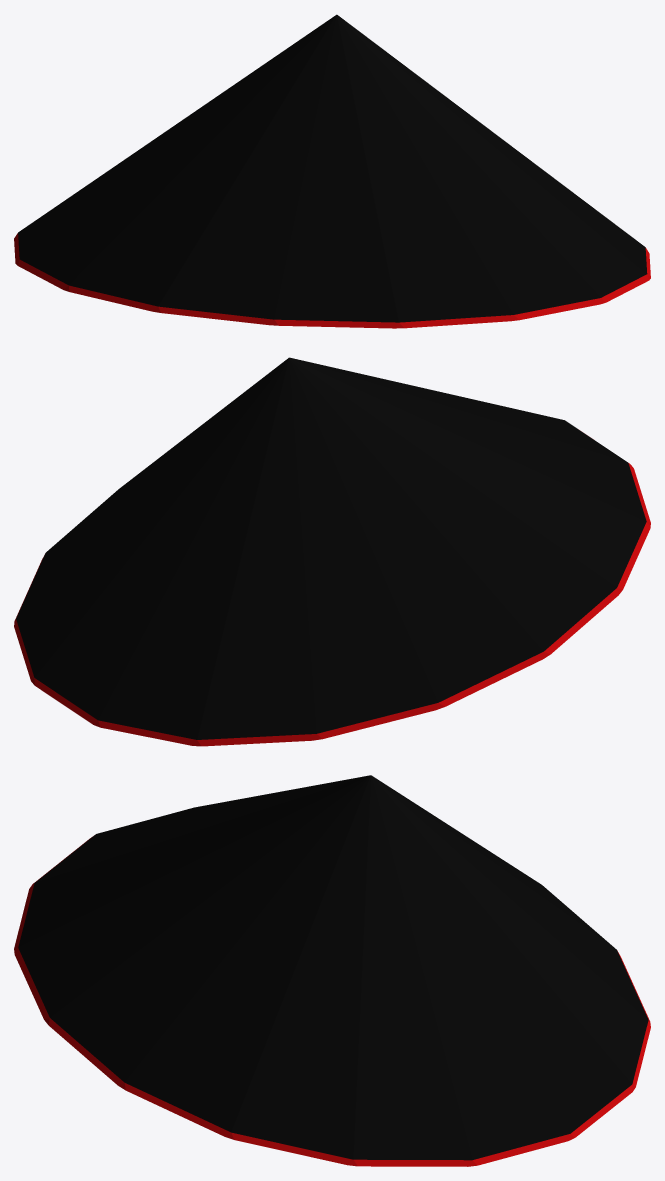
Rendered from ninjahat_basic.obj.
3 views of the same model, one above another, from view 1: azimuth 30°, elevation 25°; view 2: azimuth 150°, elevation 25°; view 3: azimuth 270°, elevation 25° (orthographic).
Visible parts, largest first — view 1: 0, 1; view 2: 0, 1; view 3: 0, 1.
Part boxes in pixels (x1,y1,x2,y2): 0: (18, 14, 647, 322); 1: (14, 233, 650, 328); 0: (16, 357, 646, 739); 1: (14, 463, 650, 746); 0: (18, 775, 648, 1160); 1: (14, 836, 650, 1166).
Size of the model in its own units: 0.7142 by 0.3555 by 0.7104.
